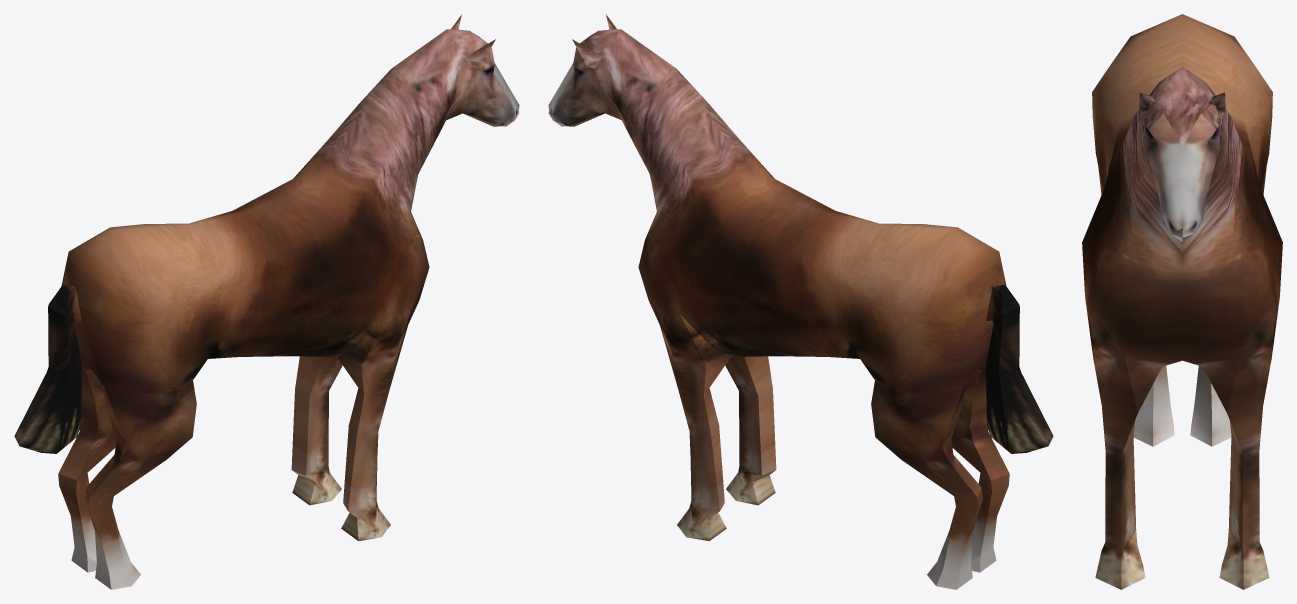
The model's file is horse.DAE.
The picture shows the model from 3 angles, left to right: view 1: azimuth 30°, elevation 25°; view 2: azimuth 150°, elevation 25°; view 3: azimuth 270°, elevation 25°; orthographic projection. The views are drawn at different scales.
Parts seen in each view (by area): view 1: Box02; view 2: Box02; view 3: Box02.
Part boxes in pixels (x1,y1,x2,y2): Box02: (14, 14, 519, 589); Box02: (548, 14, 1053, 589); Box02: (1082, 14, 1282, 589).
Bounding box in the file's own units: 231 × 63.71 × 201.
Materials: 1 (1 with a texture image).
